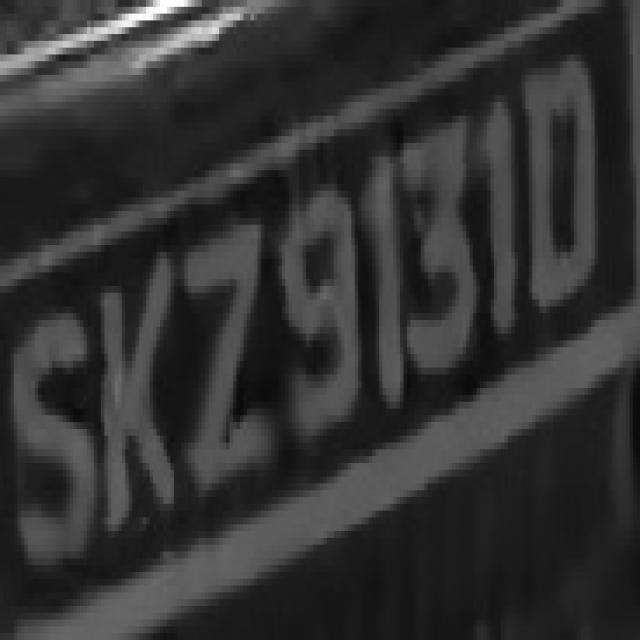1: (358, 130, 407, 457), (470, 96, 525, 382)
3: (390, 109, 480, 395)
9: (261, 156, 362, 470)
D: (525, 47, 605, 340)
K: (90, 232, 184, 518)
S: (14, 279, 104, 592)
Z: (174, 225, 282, 518)
